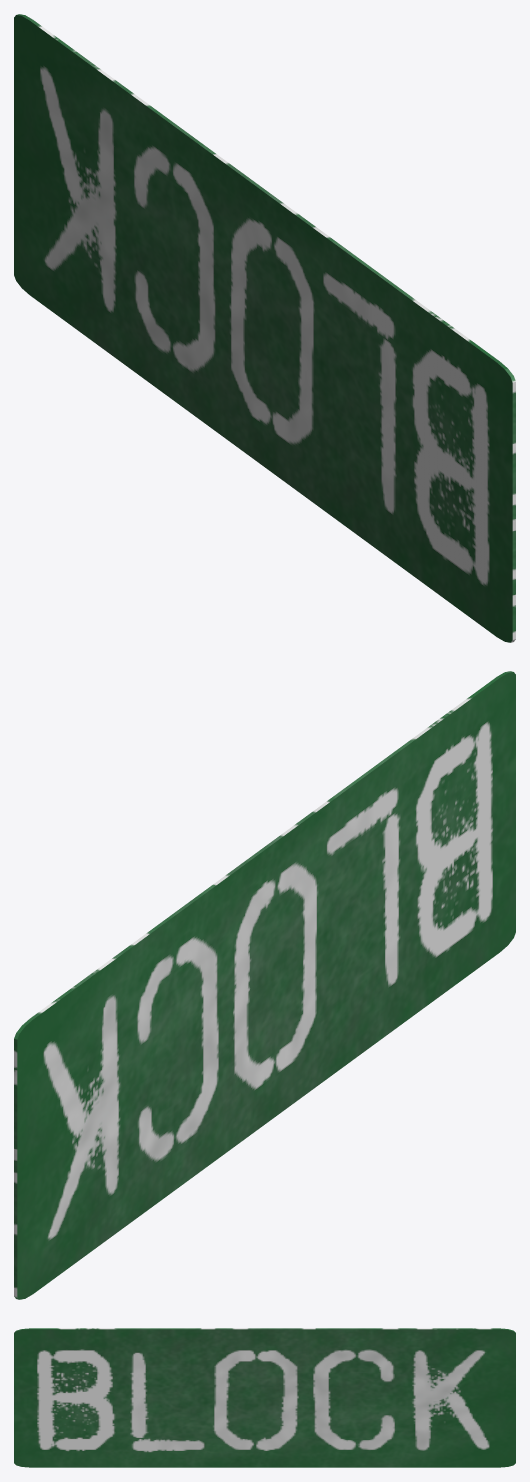
Rendered from DecalBlock.fbx.
3 renders of one model, top to bottom at view 1: azimuth 30°, elevation 25°; view 2: azimuth 150°, elevation 25°; view 3: azimuth 270°, elevation 25°, orthographic. The views are drawn at different scales.
Visible parts, largest first — view 1: DecalBlock; view 2: DecalBlock; view 3: DecalBlock.
Boxes of the visible parts, bbox=[...] form: DecalBlock: bbox=[14, 14, 515, 642]; DecalBlock: bbox=[14, 671, 515, 1299]; DecalBlock: bbox=[14, 1328, 515, 1467].
Size of the model in its own units: 5.01e-05 by 0.00385 by 0.0127.
